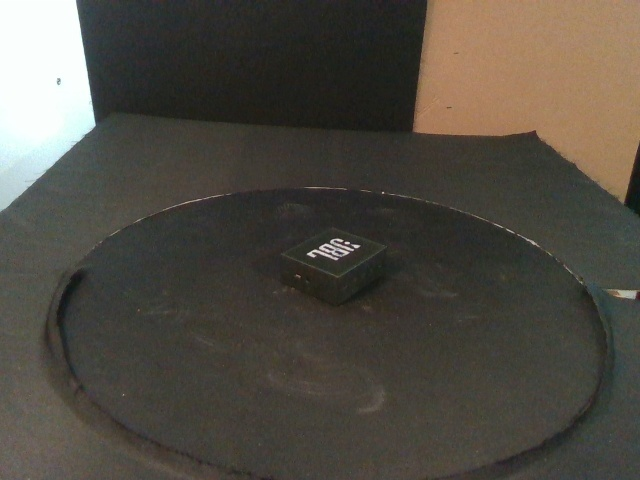speaker: (279, 227, 391, 307)
